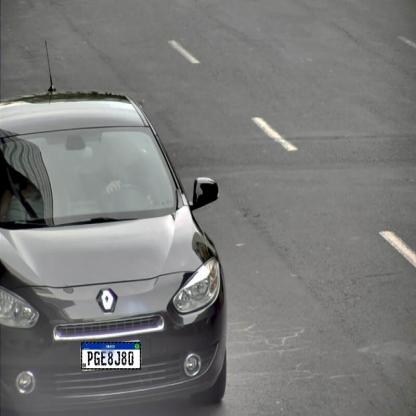PlacaM: (81, 342, 141, 369)
